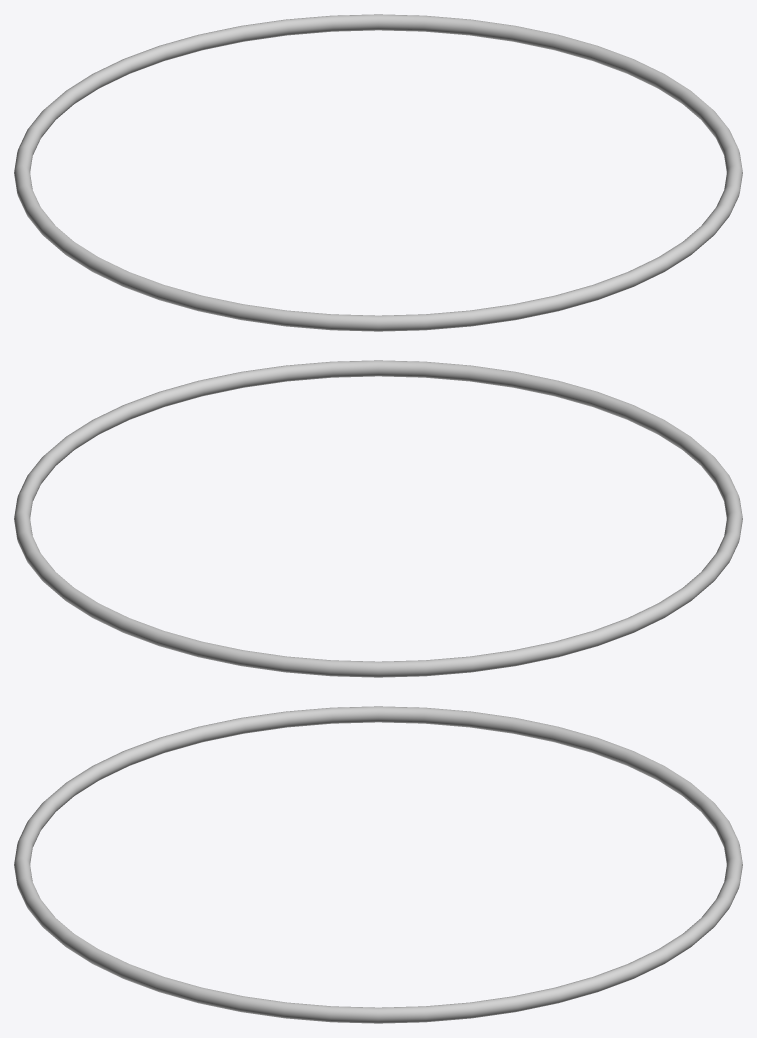
The model's file is ling.fbx.
3 renders of one model, top to bottom at view 1: azimuth 30°, elevation 25°; view 2: azimuth 150°, elevation 25°; view 3: azimuth 270°, elevation 25°, orthographic.
Visible parts, largest first — view 1: Torus; view 2: Torus; view 3: Torus.
Boxes of the visible parts, x1,y1,x2,y2 form: Torus: (14, 14, 742, 331); Torus: (14, 360, 742, 677); Torus: (14, 706, 742, 1023).
Size of the model in its own units: 2.01 by 2.01 by 0.0445.
Materials: 1 (1 with a texture image).
